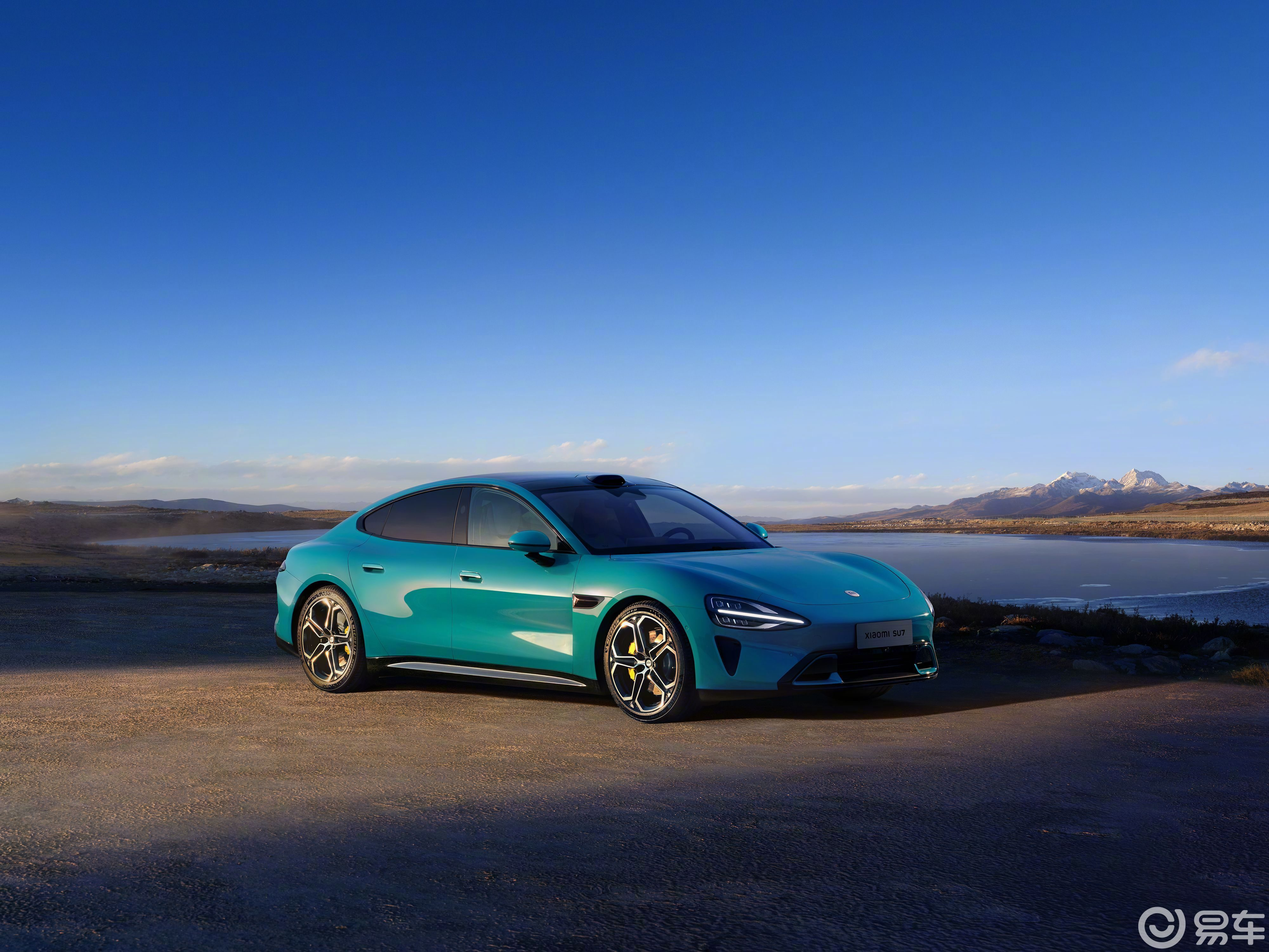su7: (283, 479, 942, 739)
